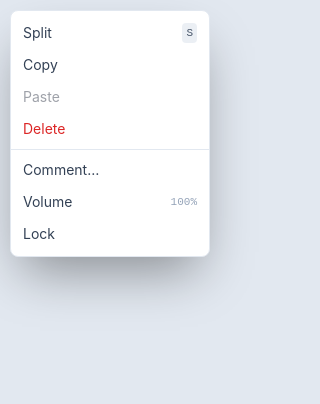
it: ClipContextMenu › closing the comment editor by re-clicking hides the input
Click the button "Comment…".
click(110, 170)  # box x1=11 y1=154 x2=209 y2=186
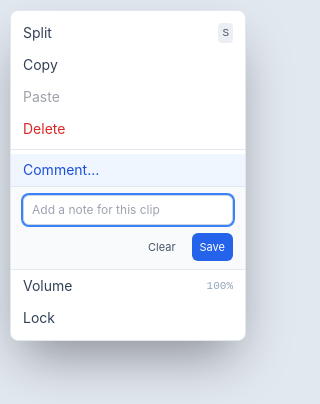
Expected: the field with placeholder "Add a note for this clip" is shown, x1=23 y1=195 x2=233 y2=225
Click the button "Comment…".
click(128, 170)  # box x1=11 y1=154 x2=245 y2=186
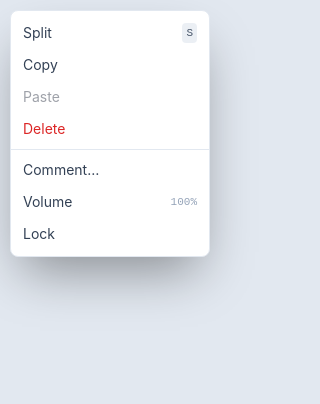
Expected: the field is gone
